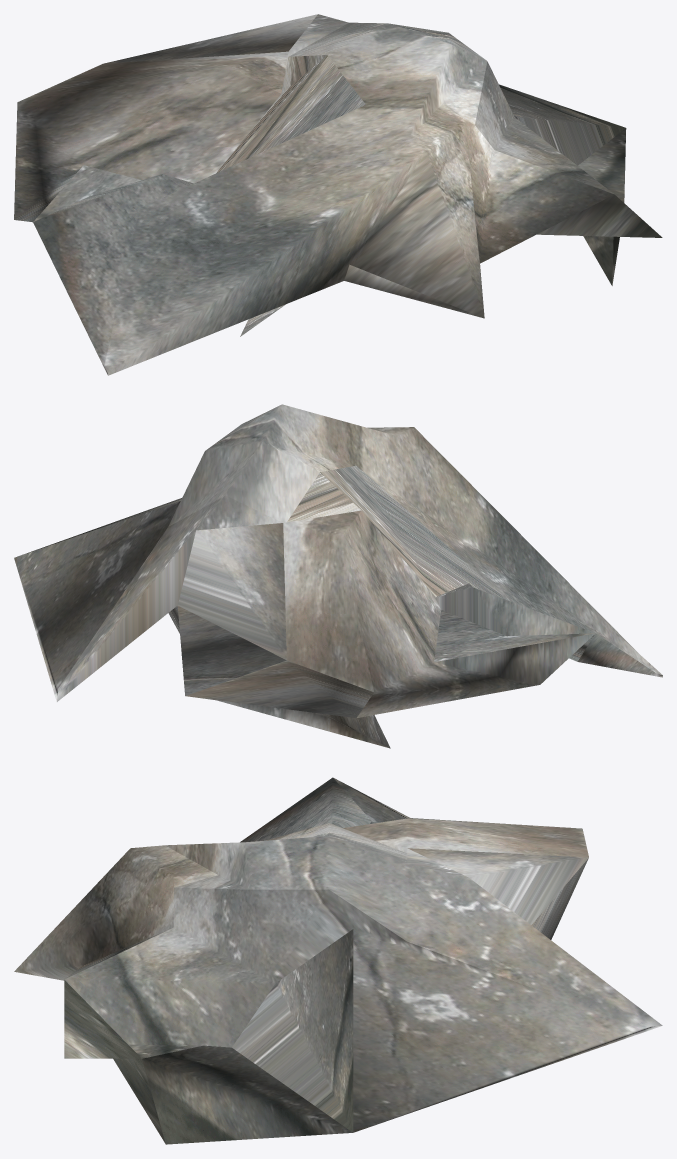
File: texured_rock.FBX
3 renders of one model, top to bottom at view 1: azimuth 30°, elevation 25°; view 2: azimuth 150°, elevation 25°; view 3: azimuth 270°, elevation 25°, orthographic. The views are drawn at different scales.
Visible parts, largest first — view 1: Box001; view 2: Box001; view 3: Box001.
Part boxes in pixels (box(x1,y1,x2,y2)): Box001: box(14, 14, 662, 375); Box001: box(14, 404, 662, 748); Box001: box(14, 777, 662, 1144).
Bounding box in the file's own units: 132 × 60.06 × 122.
Materials: 1 (1 with a texture image).
